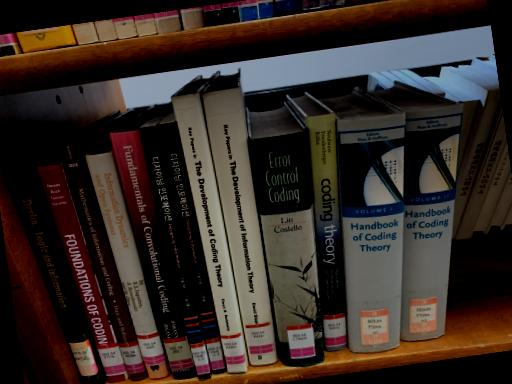book-spine: (56, 139, 148, 380), (110, 130, 197, 379), (171, 92, 247, 372), (203, 86, 278, 365), (35, 163, 128, 382), (7, 177, 102, 384), (85, 152, 170, 379), (140, 125, 211, 379), (253, 131, 325, 366), (159, 122, 225, 373), (338, 112, 405, 353), (400, 104, 463, 340), (308, 112, 347, 351)
